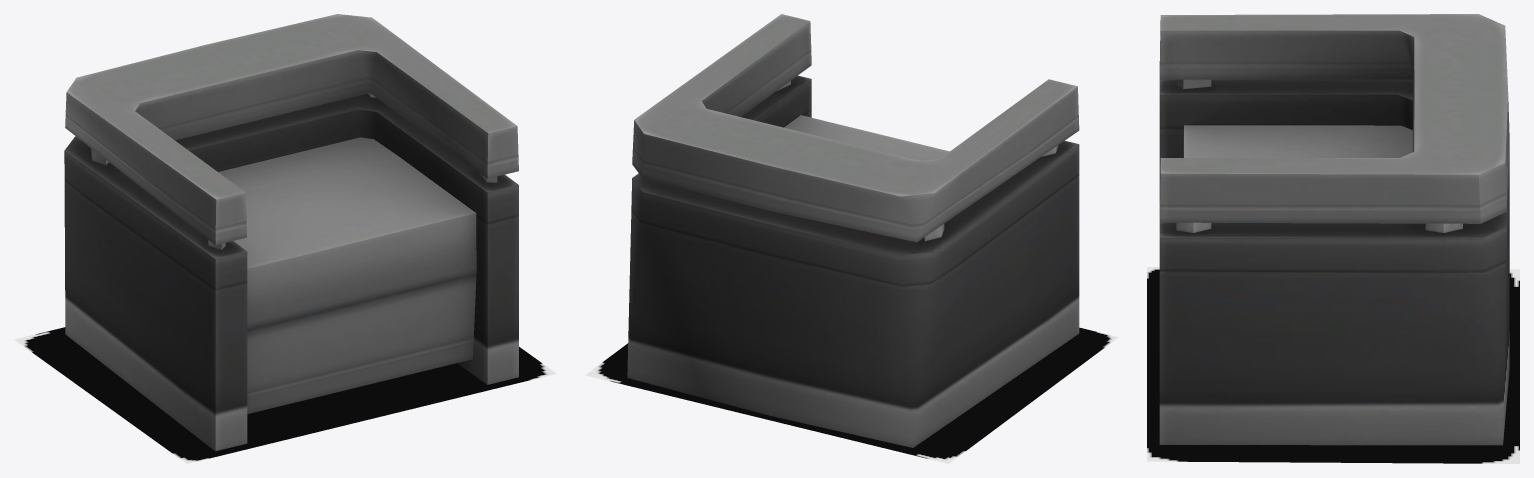
Rendered from jj_ty_shafa06.FBX.
3 views of the same model, side by side, from view 1: azimuth 30°, elevation 25°; view 2: azimuth 150°, elevation 25°; view 3: azimuth 270°, elevation 25° (orthographic). The views are drawn at different scales.
Visible parts, largest first — view 1: jj_ty_shafa06, shadow; view 2: jj_ty_shafa06, shadow; view 3: jj_ty_shafa06, shadow.
Boxes of the visible parts, x1=… form: jj_ty_shafa06: x1=64, y1=14, x2=518, y2=451; shadow: x1=14, y1=327, x2=556, y2=463; jj_ty_shafa06: x1=627, y1=14, x2=1079, y2=447; shadow: x1=585, y1=327, x2=1118, y2=463; jj_ty_shafa06: x1=1159, y1=14, x2=1509, y2=445; shadow: x1=1147, y1=267, x2=1519, y2=463.
Size of the model in its own units: 116 by 76.76 by 94.1.
